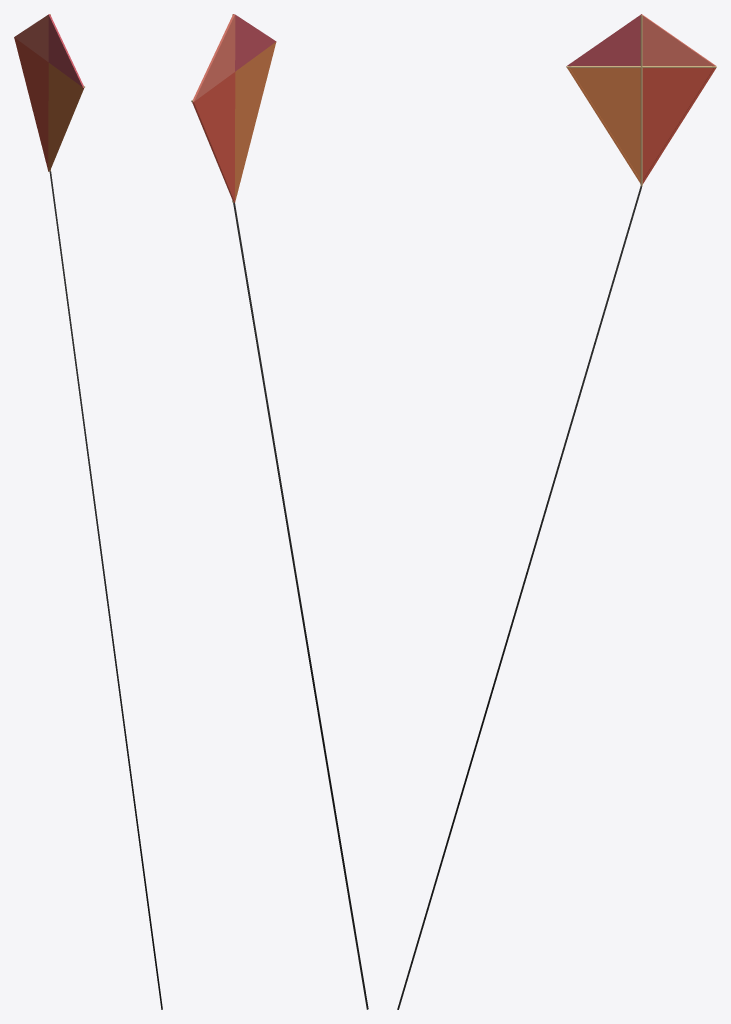
File: kite.fbx
3 renders of one model, left to right at view 1: azimuth 30°, elevation 25°; view 2: azimuth 150°, elevation 25°; view 3: azimuth 270°, elevation 25°, orthographic. The views are drawn at different scales.
Parts seen in each view (by area): view 1: bottom-left, bottom-right, Rope, top-left, top right; view 2: bottom-right, bottom-left, Rope, top right, top-left; view 3: bottom-right, bottom-left, Rope, top-left, top right.
Part boxes in pixels (x1,y1,x2,y2): bottom-left: [48, 63, 82, 171]; bottom-right: [14, 37, 48, 170]; Rope: [49, 170, 162, 1009]; top-left: [48, 14, 83, 87]; top right: [14, 14, 48, 61]; bottom-right: [194, 72, 235, 202]; bottom-left: [235, 42, 276, 202]; Rope: [233, 202, 368, 1009]; top right: [193, 14, 235, 101]; top-left: [235, 15, 276, 71]; bottom-right: [642, 68, 713, 183]; bottom-left: [570, 68, 640, 179]; Rope: [397, 185, 642, 1009]; top-left: [566, 14, 641, 66]; top right: [642, 18, 715, 65].
Size of the model in its own units: 1.47 by 583 by 170.
